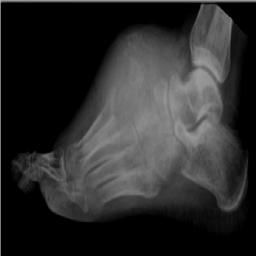cancer: (115, 25, 186, 121)
